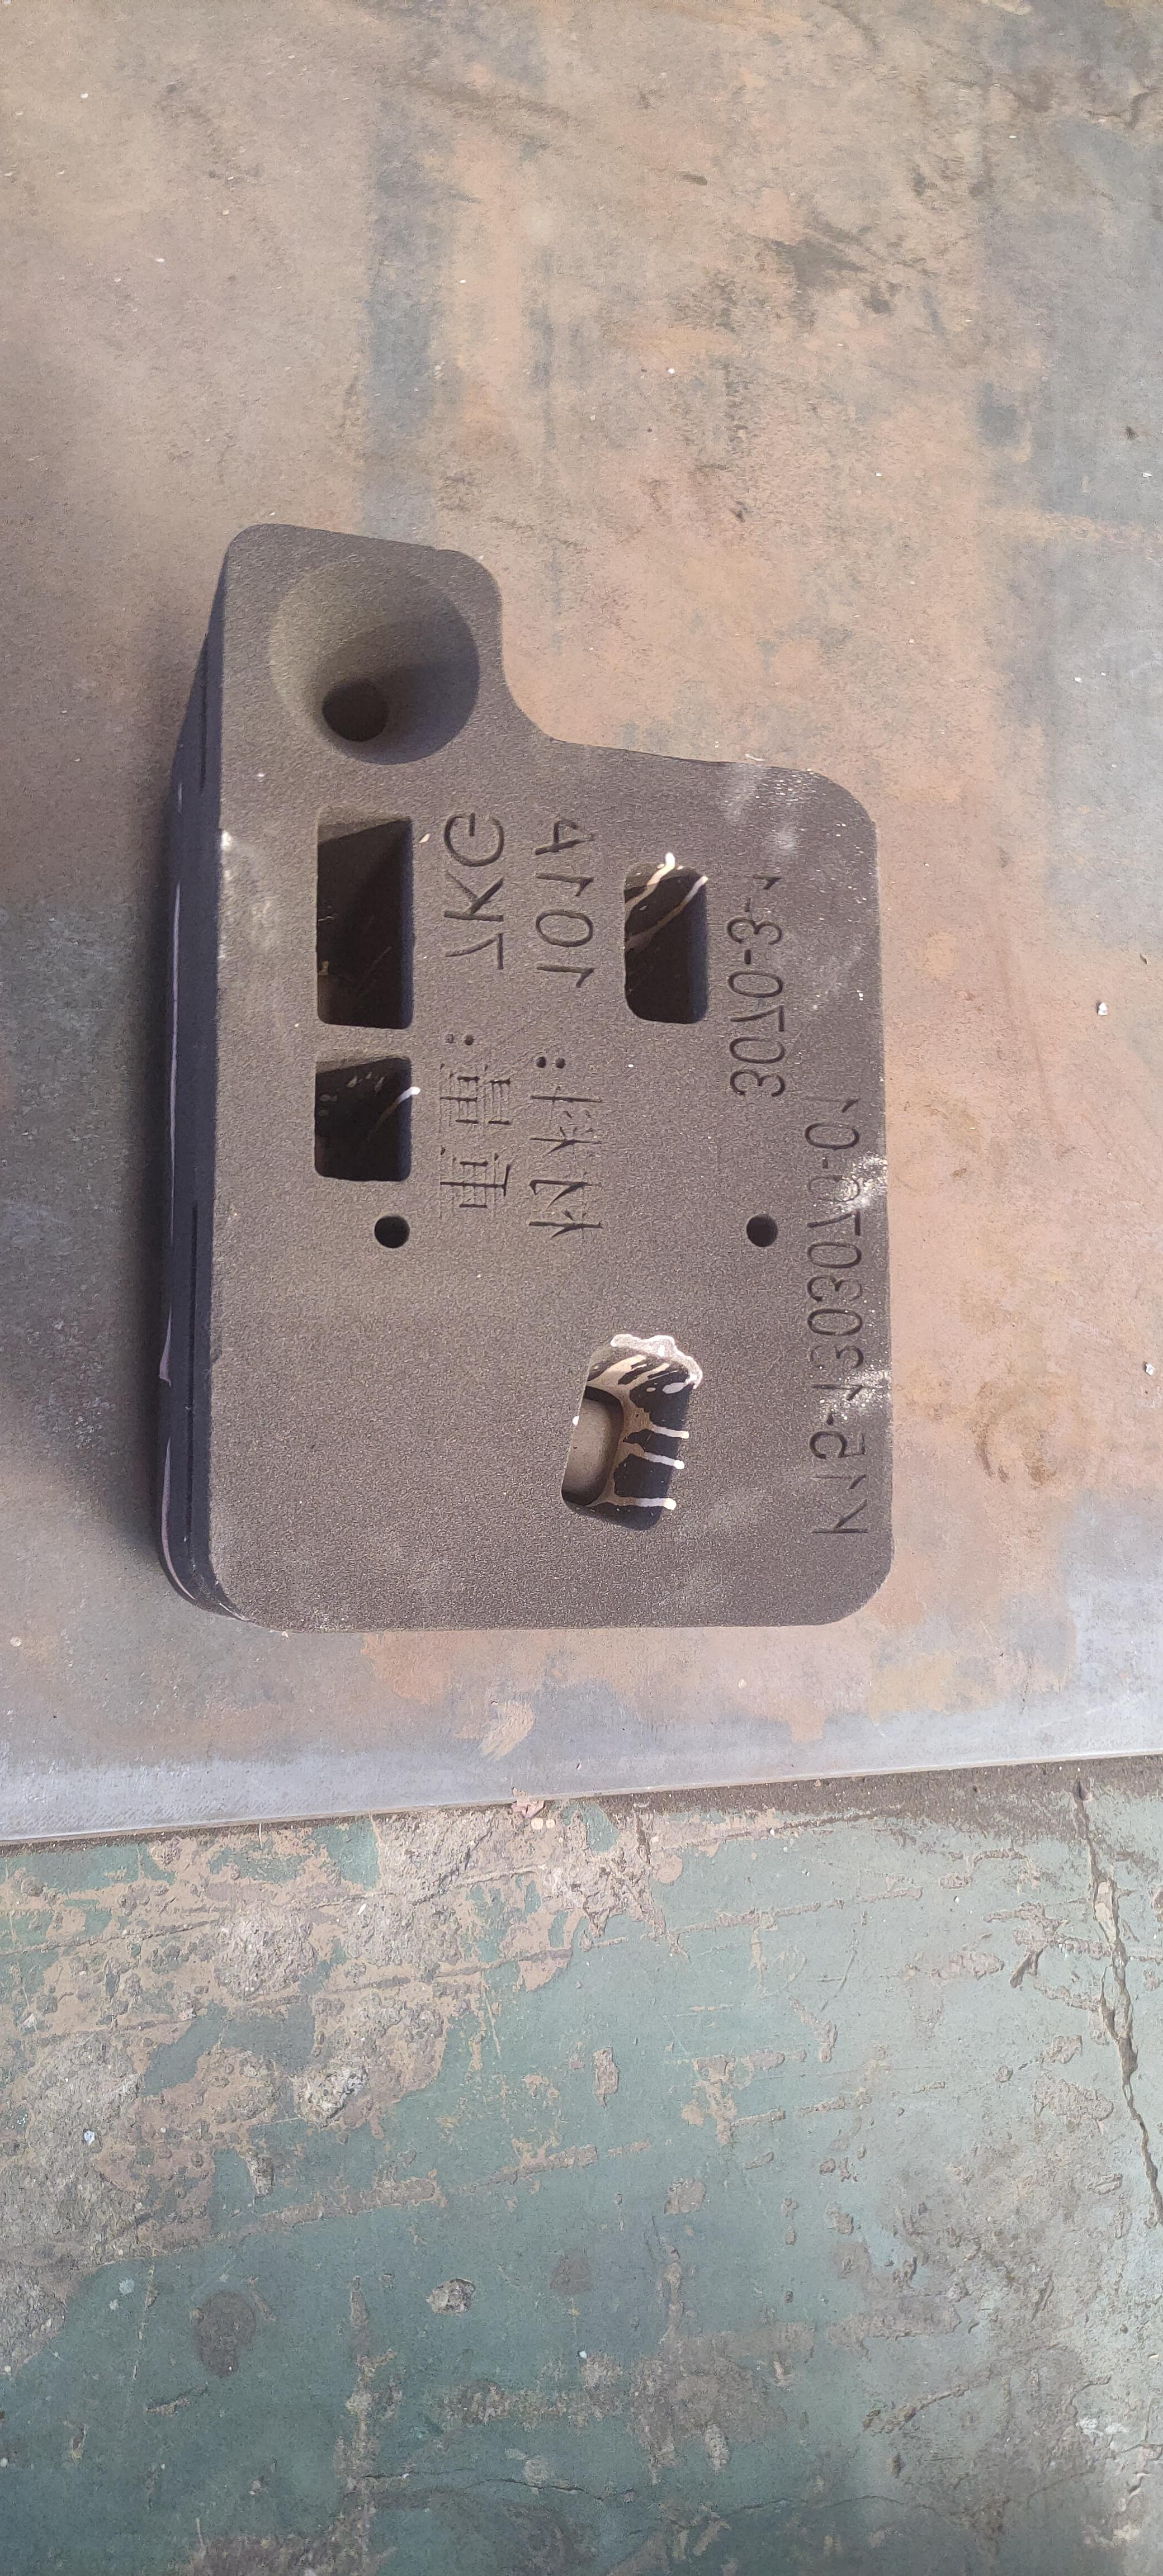pouring hole: (271, 555, 478, 767)
